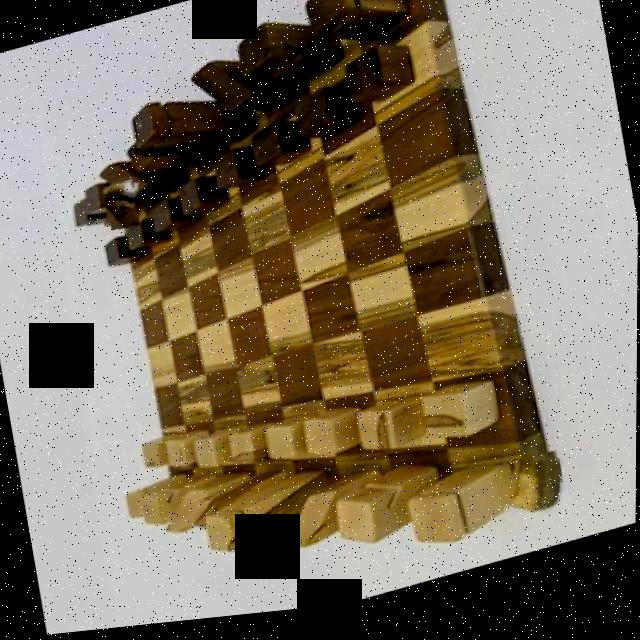chess-table-corners: (496, 458, 570, 546), (100, 178, 142, 234), (156, 481, 196, 528), (390, 0, 438, 8)
